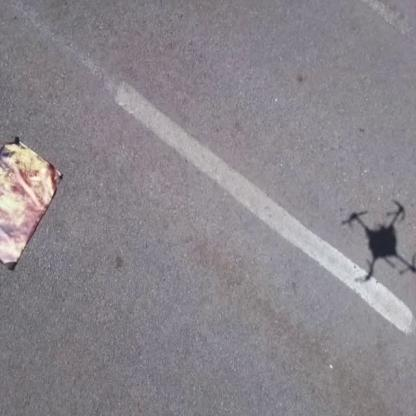fire-poster: (0, 134, 63, 272)
